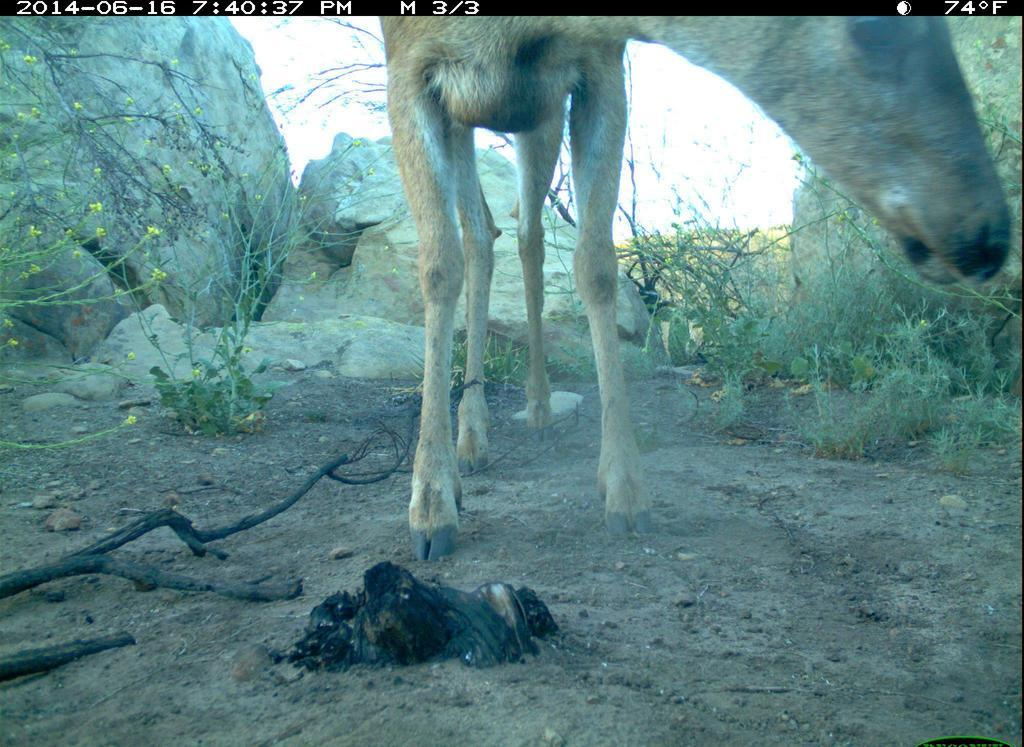deer: (370, 12, 1007, 556)
